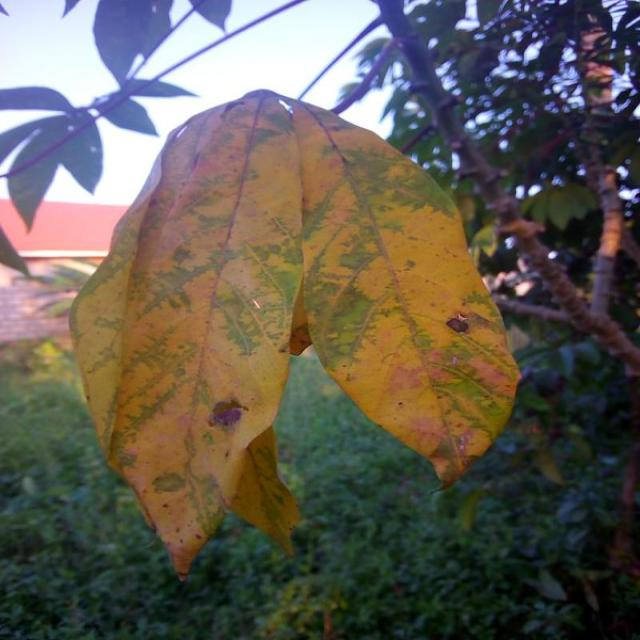cassava leaf: (67, 86, 522, 582)
